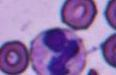N: (30, 27, 85, 75)
